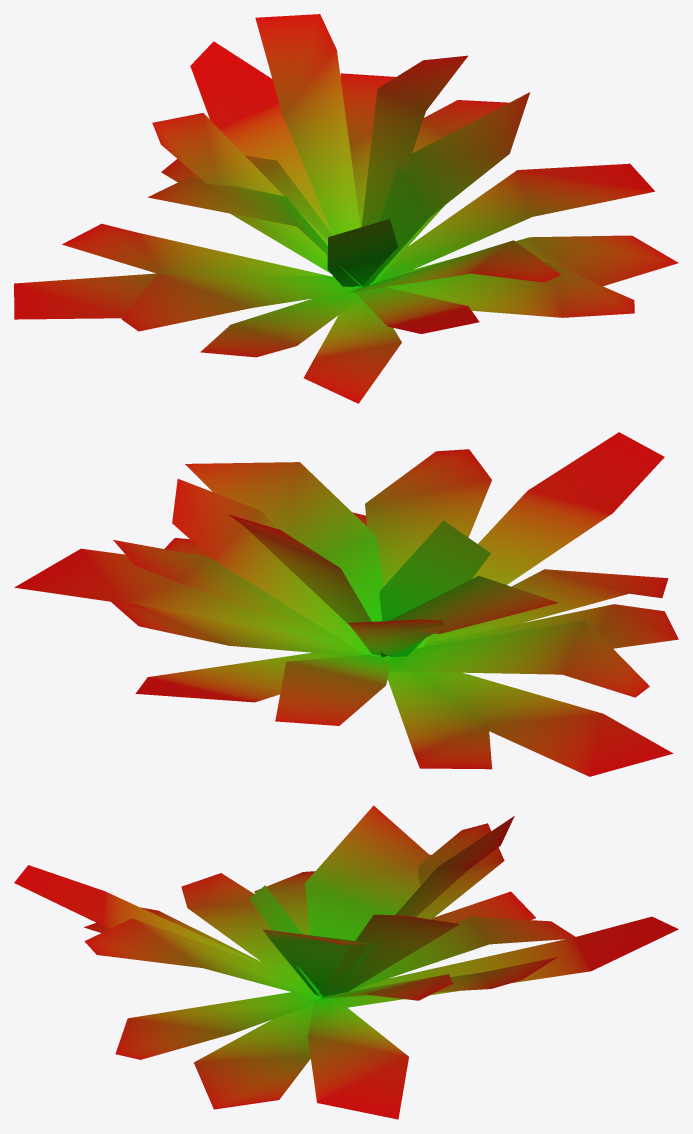
The model's file is Var30_LOD2.fbx.
3 views of the same model, one above another, from view 1: azimuth 30°, elevation 25°; view 2: azimuth 150°, elevation 25°; view 3: azimuth 270°, elevation 25° (orthographic). The views are drawn at different scales.
Visible parts, largest first — view 1: _3yjh_Var30_LOD2; view 2: _3yjh_Var30_LOD2; view 3: _3yjh_Var30_LOD2.
Part boxes in pixels (<box>): _3yjh_Var30_LOD2: <box>14,14,678,403</box>; _3yjh_Var30_LOD2: <box>14,432,678,776</box>; _3yjh_Var30_LOD2: <box>14,805,678,1119</box>.
Size of the model in its own units: 20.74 by 6.4 by 20.93.
